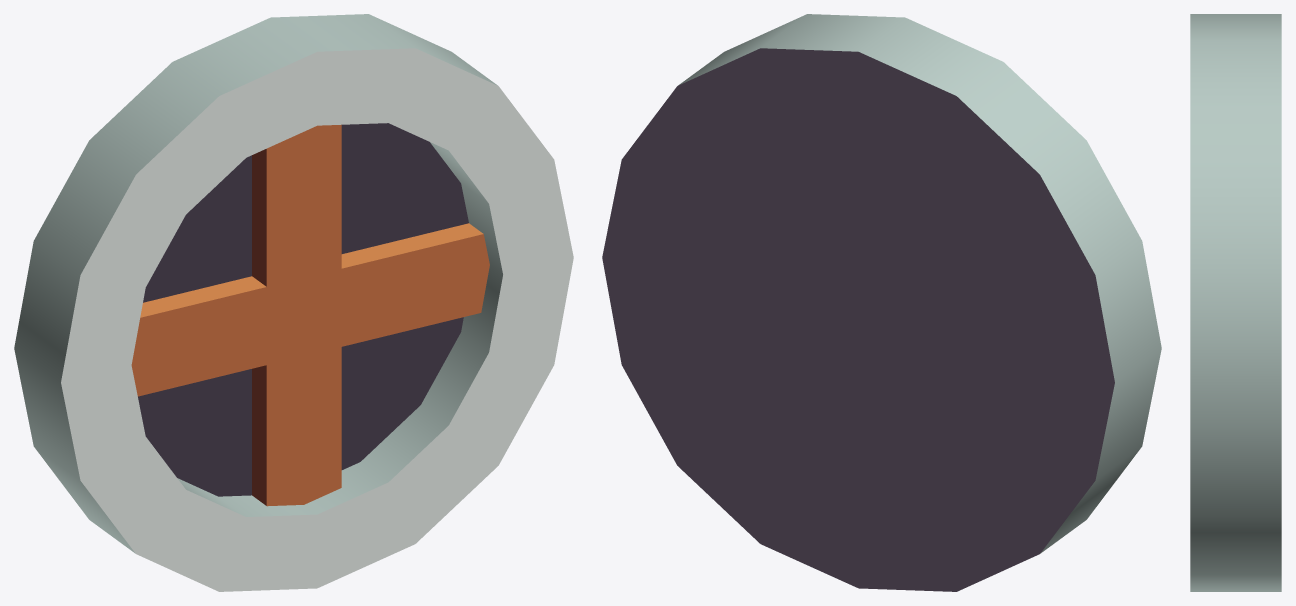
The model's file is SmallWindow02_White_Wood.glb.
3 views of the same model, side by side, from view 1: azimuth 30°, elevation 25°; view 2: azimuth 150°, elevation 25°; view 3: azimuth 270°, elevation 25° (orthographic). The views are drawn at different scales.
Parts seen in each view (by area): view 1: SmallWindow02_White_Wood; view 2: SmallWindow02_White_Wood; view 3: SmallWindow02_White_Wood.
Part boxes in pixels (left/top/right/bottom): SmallWindow02_White_Wood: left=14, top=14, right=573, bottom=591; SmallWindow02_White_Wood: left=602, top=14, right=1161, bottom=591; SmallWindow02_White_Wood: left=1190, top=14, right=1281, bottom=591.
Size of the model in its own units: 0.5633 by 0.5633 by 0.089.
Materials: 1 (1 with a texture image).
